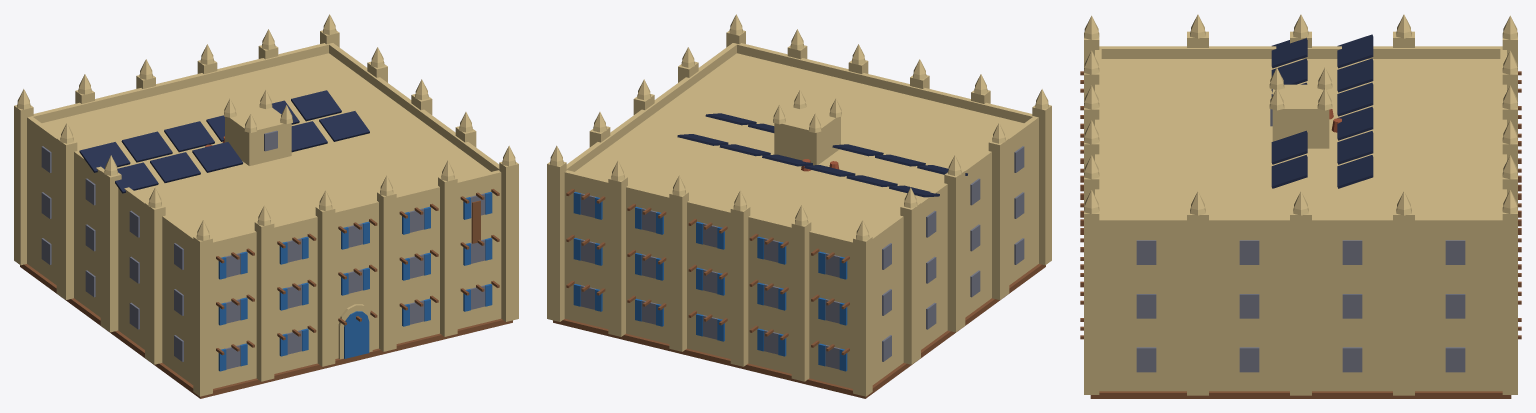
Rendered from house-2x2-3f-banco-a-solar.glb.
The picture shows the model from 3 angles, left to right: view 1: azimuth 30°, elevation 25°; view 2: azimuth 150°, elevation 25°; view 3: azimuth 270°, elevation 25°; orthographic projection. The views are drawn at different scales.
Parts seen in each view (by area): view 1: house-2x2-3f-banco-a-solar; view 2: house-2x2-3f-banco-a-solar; view 3: house-2x2-3f-banco-a-solar.
Part boxes in pixels (x1,y1,x2,y2): house-2x2-3f-banco-a-solar: (14,14,518,398); house-2x2-3f-banco-a-solar: (547,14,1051,398); house-2x2-3f-banco-a-solar: (1080,14,1521,398).
Size of the model in its own units: 1.99 by 1.15 by 2.01.
Materials: 1 (1 with a texture image).
